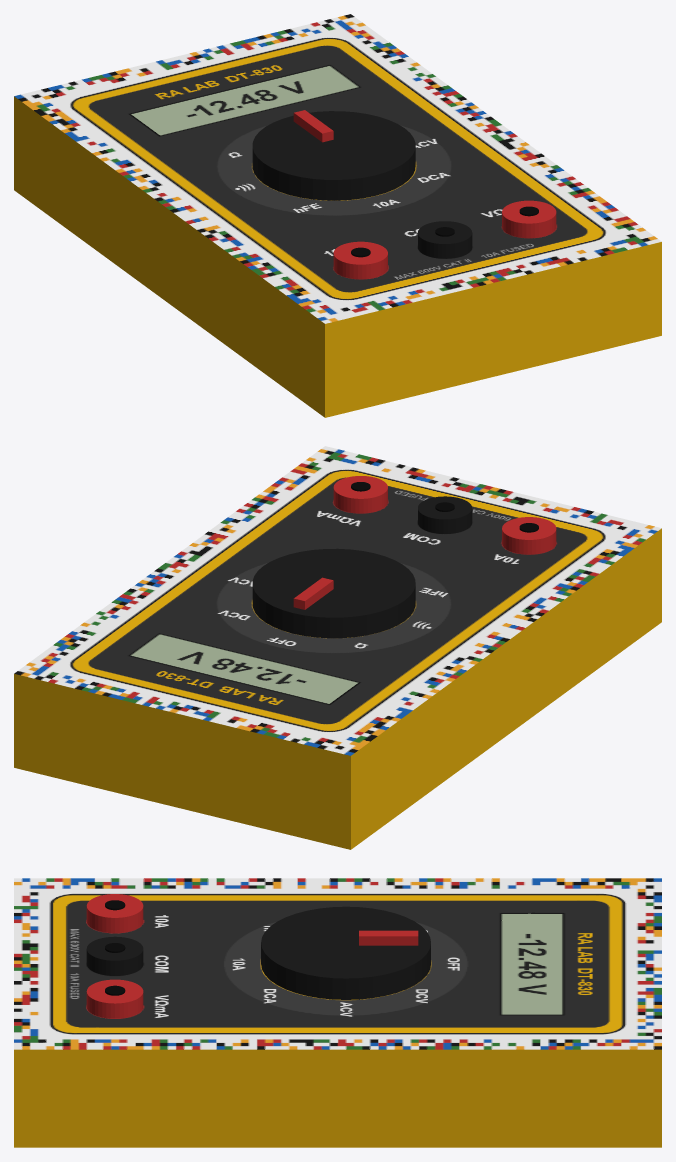
The model's file is multimetro-demo.glb.
3 views of the same model, one above another, from view 1: azimuth 30°, elevation 25°; view 2: azimuth 150°, elevation 25°; view 3: azimuth 270°, elevation 25° (orthographic). The views are drawn at different scales.
Size of the model in its own units: 0.12 by 0.042 by 0.192.
Materials: 5 (1 with a texture image).
